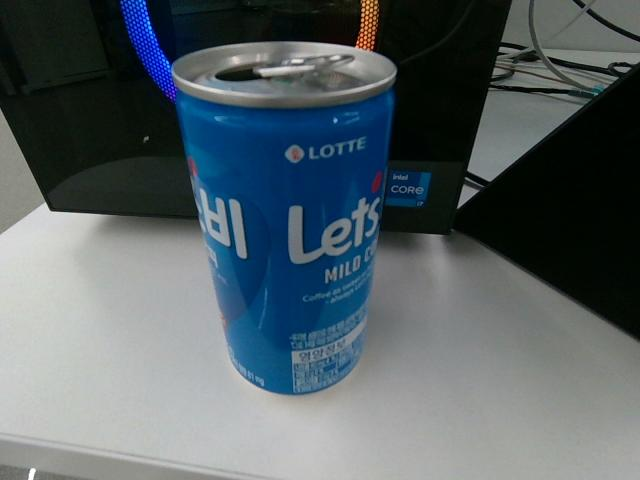letsbe: (170, 39, 398, 395)
